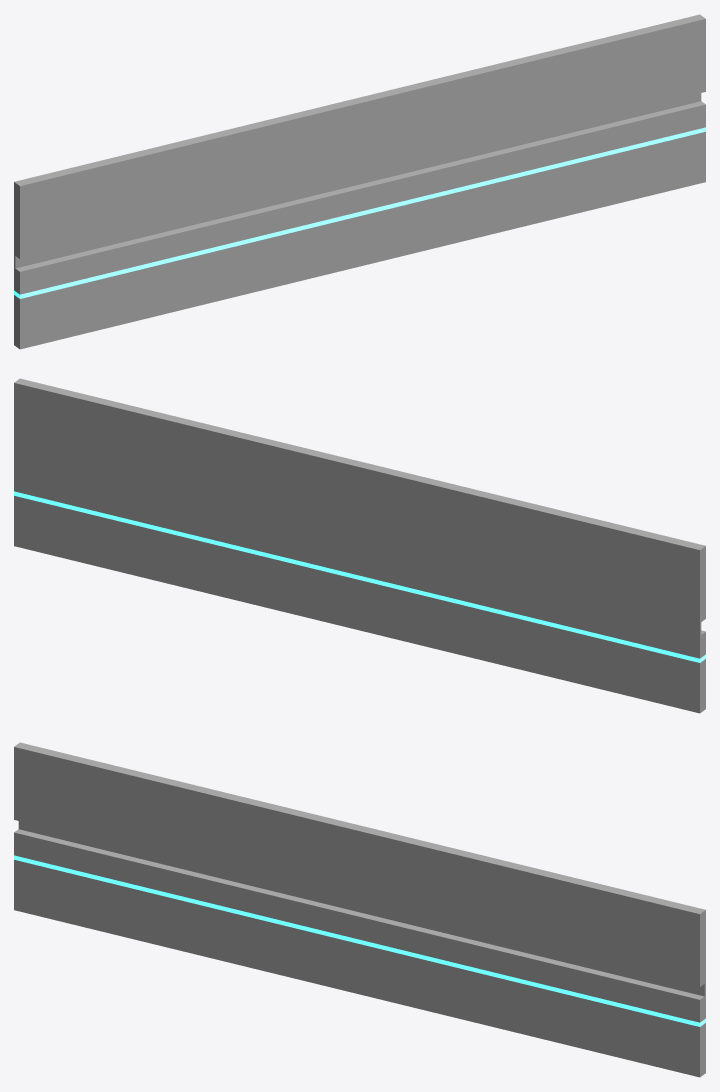
File: 4th room left wall.fbx
3 renders of one model, top to bottom at view 1: azimuth 30°, elevation 25°; view 2: azimuth 150°, elevation 25°; view 3: azimuth 330°, elevation 25°, orthographic.
Visible parts, largest first — view 1: Cube.009; view 2: Cube.009; view 3: Cube.009.
Boxes of the visible parts, box(x1,y1,x2,y2) form: Cube.009: box(14, 14, 705, 349); Cube.009: box(14, 378, 705, 713); Cube.009: box(14, 742, 705, 1077).
Bounding box in the file's own units: 6614 × 1504 × 100.
